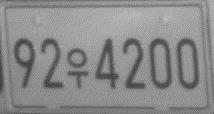0: (175, 37, 200, 89), (148, 37, 172, 90)
2: (39, 37, 64, 90), (121, 37, 145, 90)
4: (94, 38, 120, 90)
9: (13, 37, 36, 88)
우: (65, 47, 90, 89)
